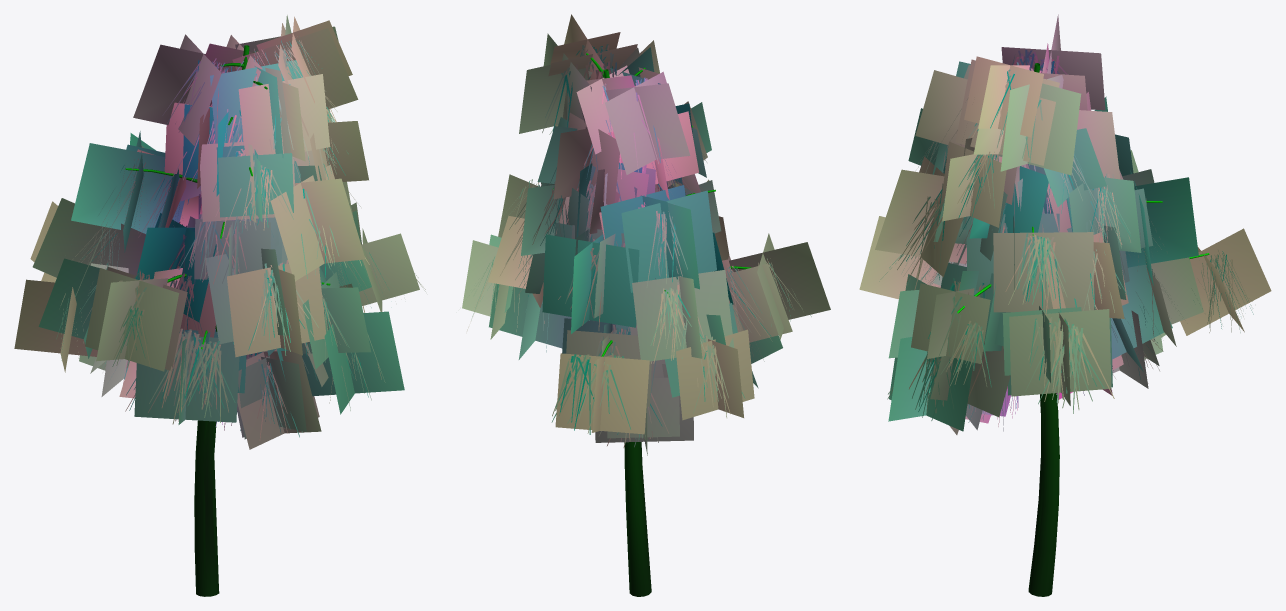
Rendered from casuarina_2.glb.
The picture shows the model from 3 angles, left to right: view 1: azimuth 30°, elevation 25°; view 2: azimuth 150°, elevation 25°; view 3: azimuth 270°, elevation 25°; orthographic projection. The views are drawn at different scales.
Visible parts, largest first — view 1: mid, near; view 2: mid, near; view 3: mid, near.
Part boxes in pixels (x1,y1,x2,y2): mid: [14, 15, 419, 595]; near: [56, 39, 425, 596]; mid: [462, 14, 830, 575]; near: [467, 44, 811, 596]; mid: [859, 14, 1271, 594]; near: [879, 49, 1253, 596].
Size of the model in its own units: 7.72 by 12.55 by 8.15.
